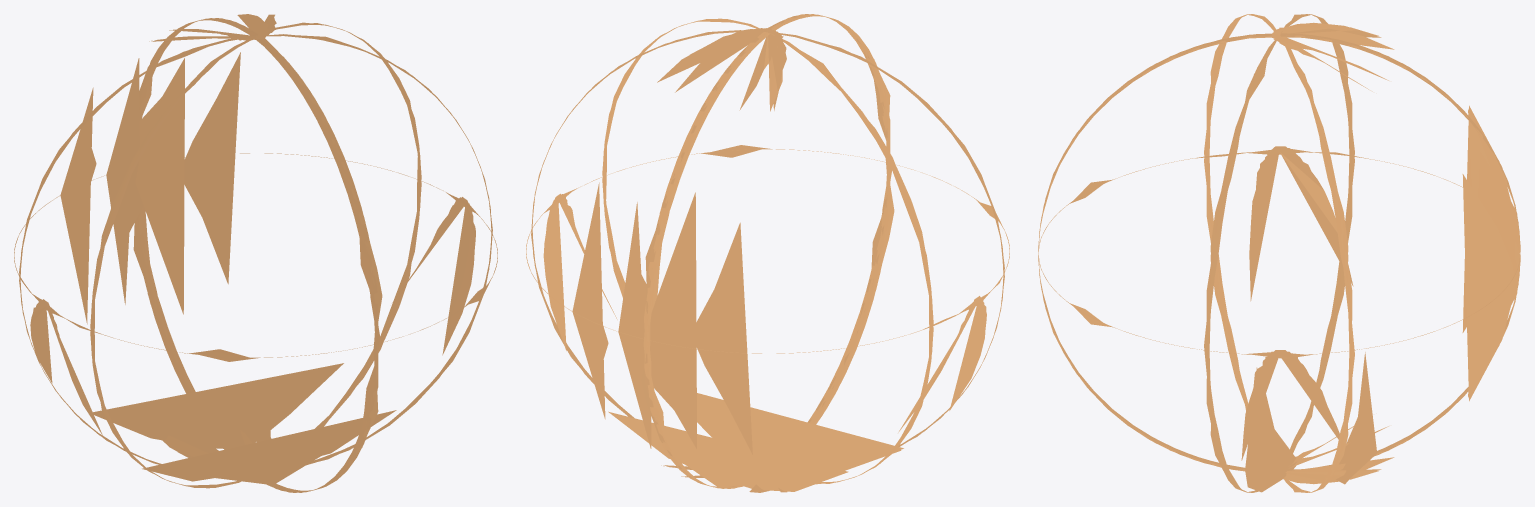
The model's file is conductor-guard.glb.
The picture shows the model from 3 angles, left to right: view 1: azimuth 30°, elevation 25°; view 2: azimuth 150°, elevation 25°; view 3: azimuth 270°, elevation 25°; orthographic projection.
Visible parts, largest first — view 1: conductor_guard; view 2: conductor_guard; view 3: conductor_guard.
Boxes of the visible parts, x1,y1,x2,y2 form: conductor_guard: (14,14,497,492); conductor_guard: (526,14,1009,492); conductor_guard: (1038,14,1520,492).
Size of the model in its own units: 2 by 2 by 2.
